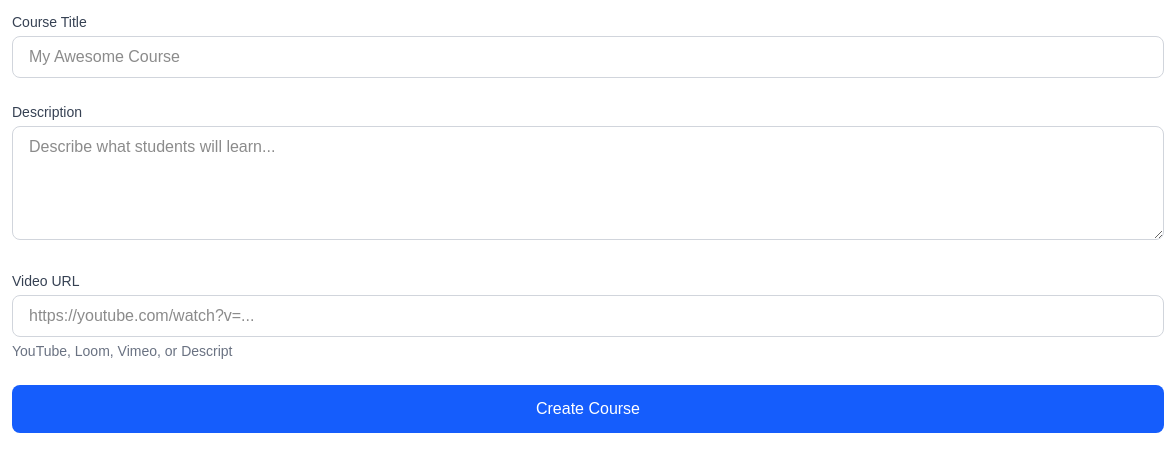
it: CourseForm › Validation › should show error for video URL from unsupported platform
The image size is (1176, 474).
Type "Test Course" into the field labelled "Course Title" at (588, 57), box [12,36,1164,78]
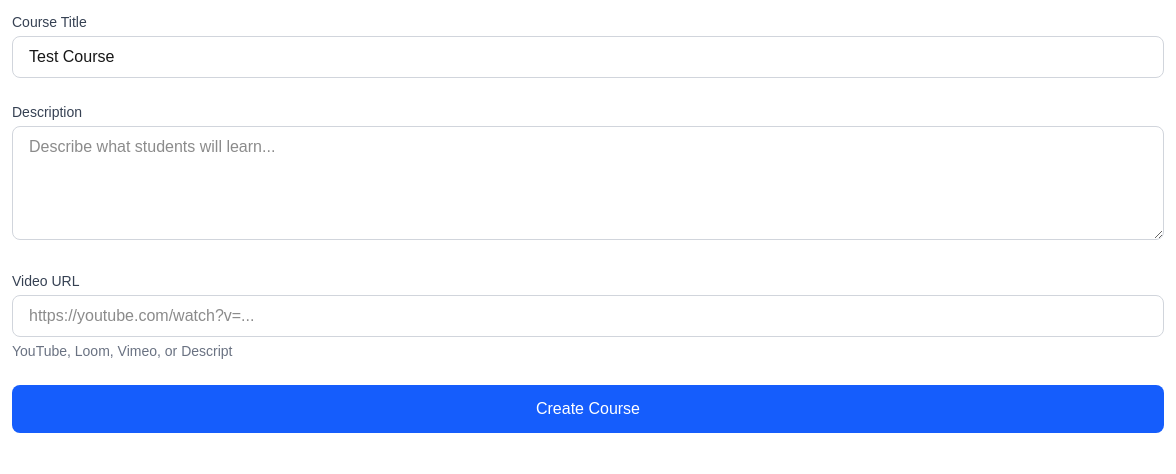
Type "Test Description" into the text box labelled "Description" at (588, 183), box [12,126,1164,240]
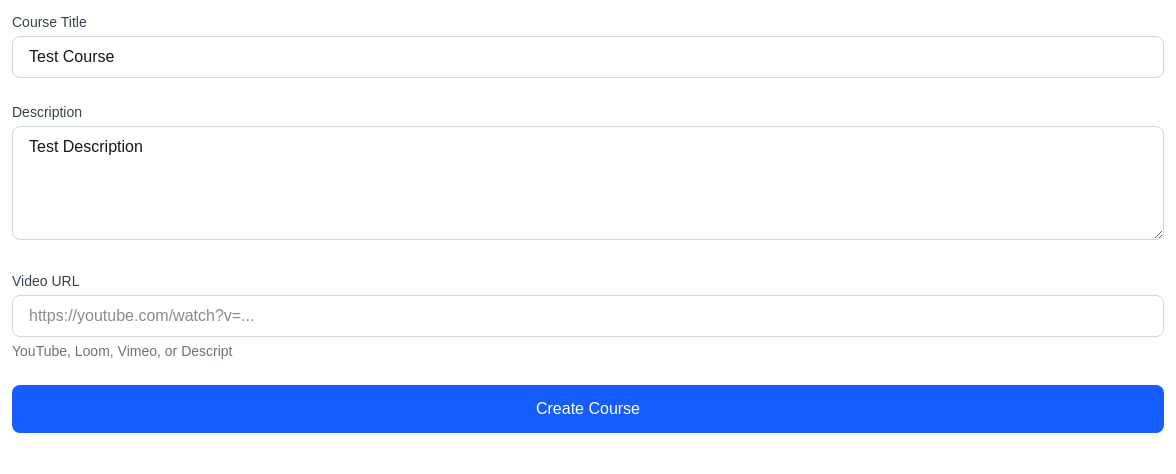
Type "https://example.com/video" into the field labelled "Video URL" at (588, 316), box [12,295,1164,337]
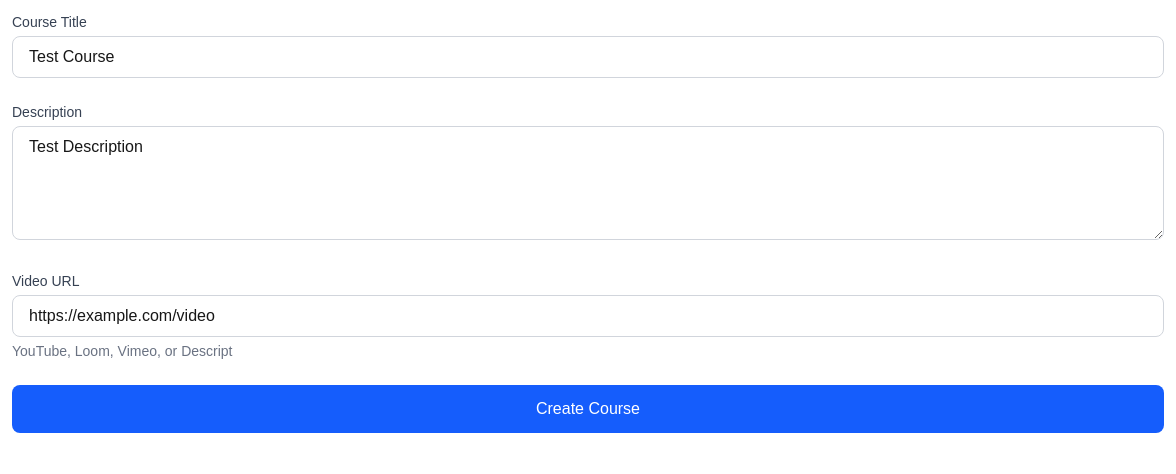
Click the button "Create Course" at (588, 409), box [12,385,1164,433]
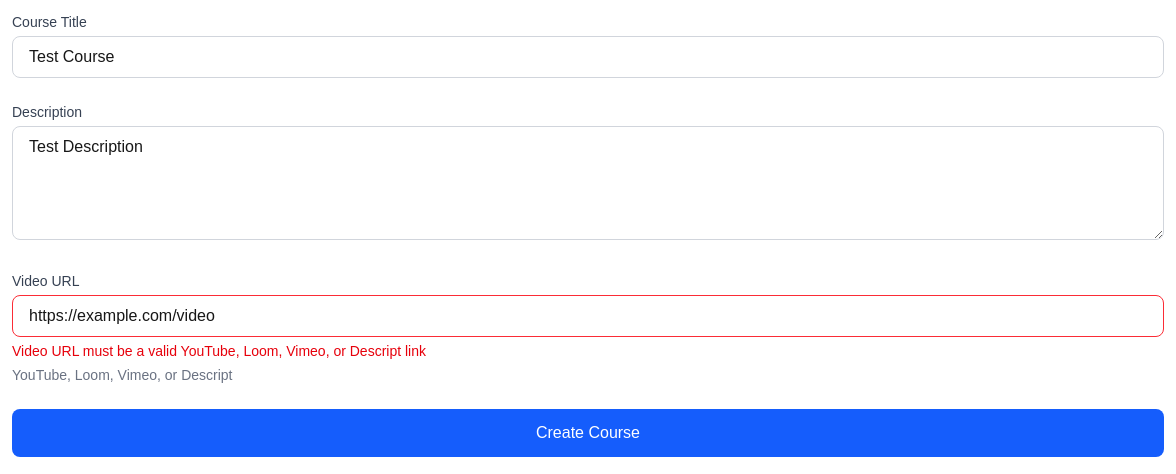
Result: the text "Video URL must be a valid" is shown at [12,343,426,359]
